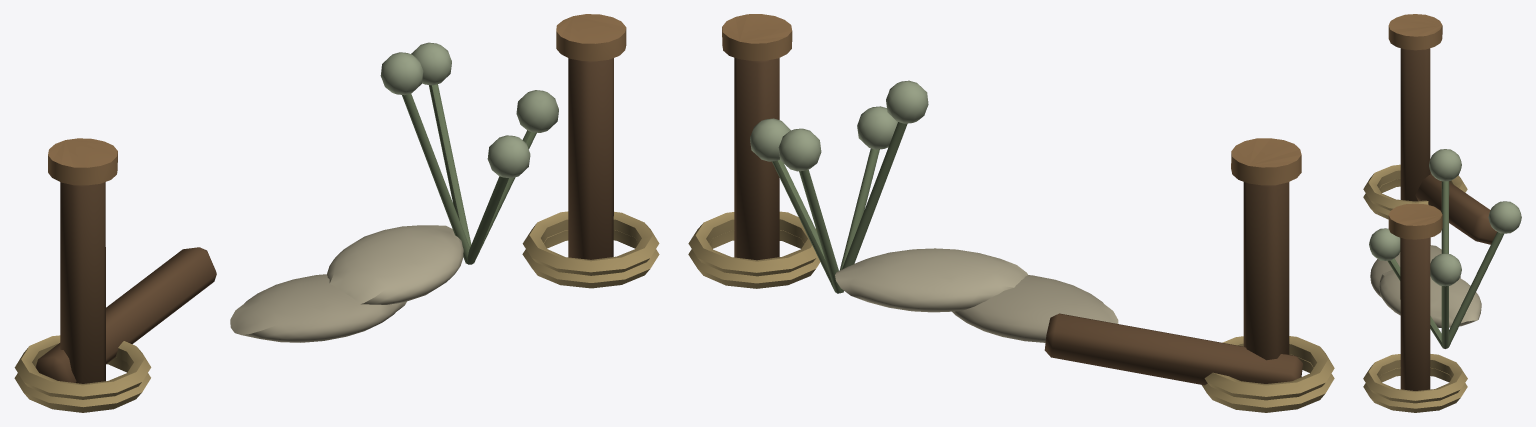
File: hammock_rig_c.glb
3 renders of one model, left to right at view 1: azimuth 30°, elevation 25°; view 2: azimuth 150°, elevation 25°; view 3: azimuth 270°, elevation 25°, orthographic. The views are drawn at different scales.
Parts seen in each view (by area): view 1: Surface; view 2: Surface; view 3: Surface.
Boxes of the visible parts, bbox=[...] form: Surface: bbox=[14, 14, 659, 412]; Surface: bbox=[688, 14, 1334, 412]; Surface: bbox=[1363, 14, 1521, 412].
Size of the model in its own units: 3.7 by 1.36 by 1.06.
